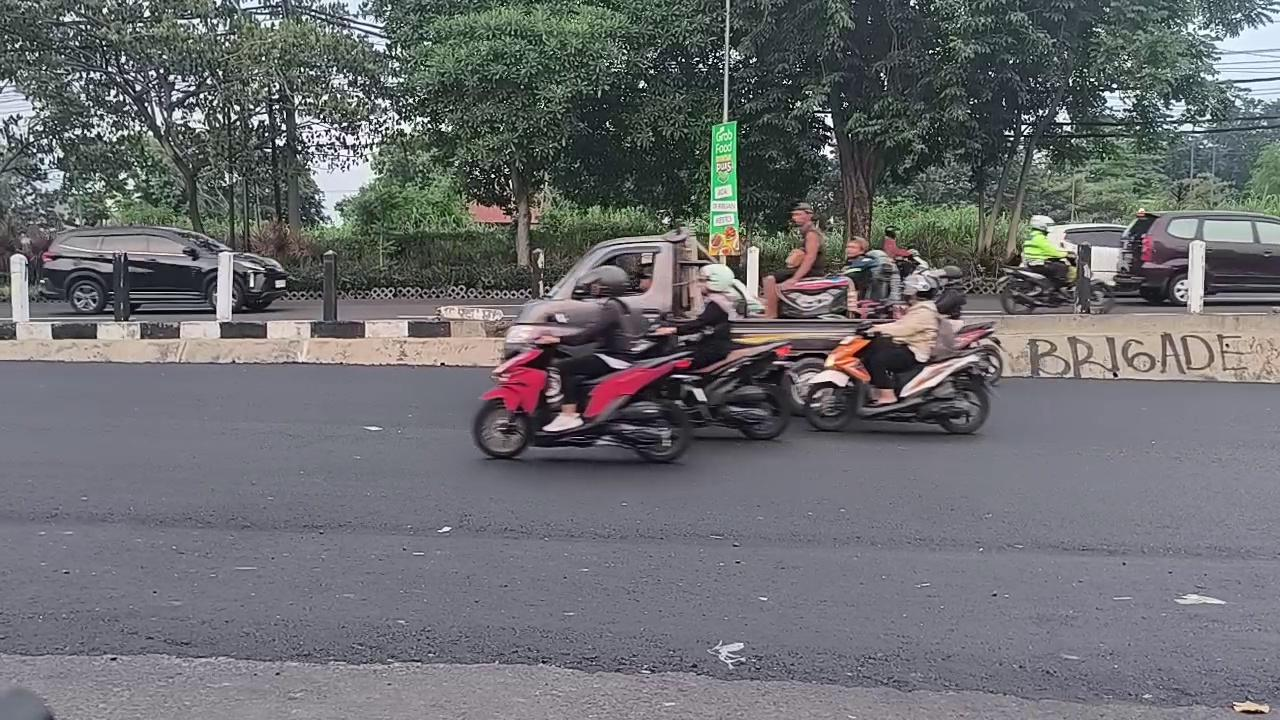Helmet: (535, 265, 647, 433), (863, 274, 941, 405), (655, 264, 749, 369), (1021, 215, 1068, 293)
Motor: (472, 346, 693, 462), (806, 325, 989, 433), (665, 342, 791, 439), (999, 257, 1076, 313), (951, 319, 1003, 386)
